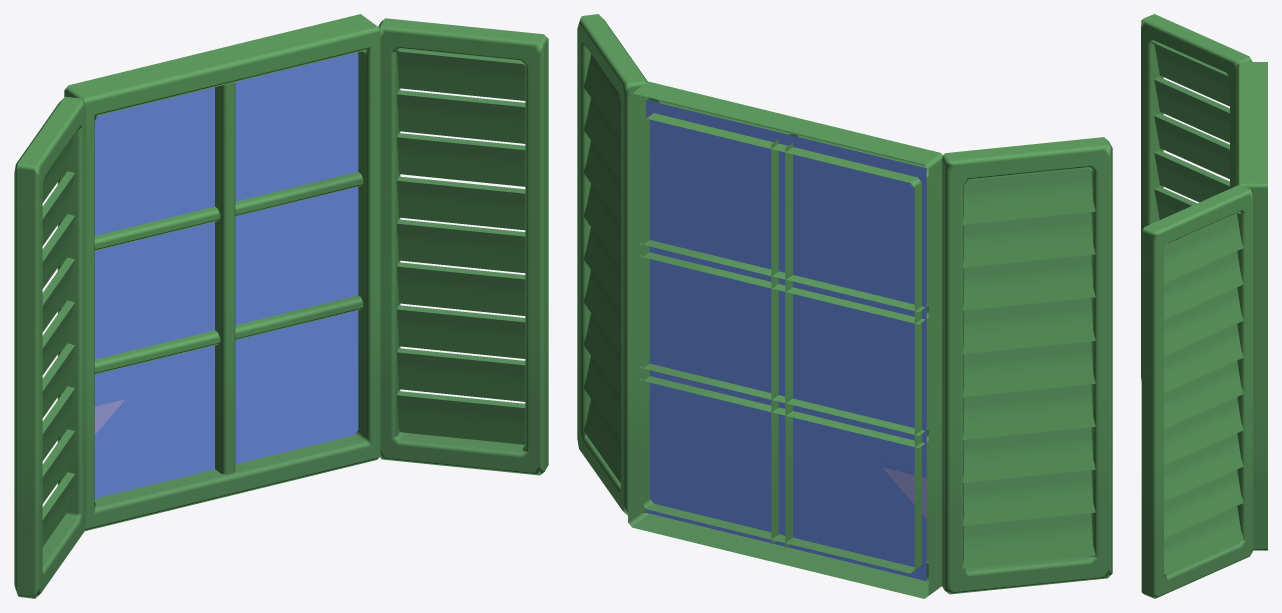
Rendered from Window_Green.fbx.
3 views of the same model, side by side, from view 1: azimuth 30°, elevation 25°; view 2: azimuth 150°, elevation 25°; view 3: azimuth 270°, elevation 25° (orthographic). The views are drawn at different scales.
Parts seen in each view (by area): view 1: Cube.221, Cube.227, Cube.226; view 2: Cube.221, Cube.226, Cube.227; view 3: Cube.227, Cube.226, Cube.221.
Part boxes in pixels (bbox=[...]): Cube.221: bbox=[64, 14, 380, 531]; Cube.227: bbox=[378, 18, 548, 475]; Cube.226: bbox=[14, 96, 86, 598]; Cube.221: bbox=[628, 81, 942, 598]; Cube.226: bbox=[942, 137, 1112, 594]; Cube.227: bbox=[577, 14, 649, 515]; Cube.227: bbox=[1141, 184, 1252, 598]; Cube.226: bbox=[1141, 14, 1252, 380]; Cube.221: bbox=[1236, 62, 1267, 550].
Bounding box in the file's own units: 255 × 199 × 62.28.
